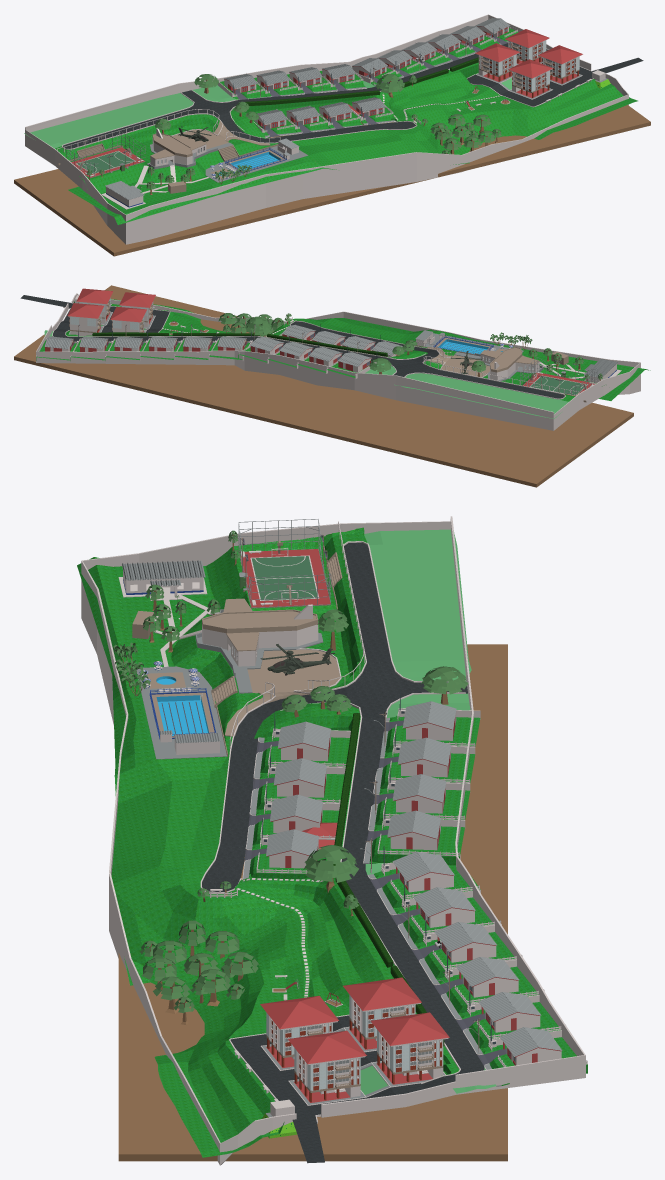
Rendered from vrsd_v1_textures_1_apache.glb.
The picture shows the model from 3 angles, top to bottom: view 1: azimuth 30°, elevation 25°; view 2: azimuth 150°, elevation 25°; view 3: azimuth 270°, elevation 25°; orthographic projection. The views are drawn at different scales.
Visible parts, largest first — view 1: muro, grama, Length-310m, clube-upper, rua.011, clube-lower-plane, rua, preio-telhado (×4), rua.002, cerca-viva, quadra, Circle.002 (+7 smaller); view 2: Length-310m, muro, grama, rua, rua.011, preio-telhado (×4), clube-lower-plane, cerca-viva, quadra, rua.002, estacionamento, clube-upper (+9 smaller); view 3: grama, Length-310m, muro, roof.001 (×14), rua, house_grass (×12), rua.011, clube-upper, clube-lower-plane, preio-telhado (×4), rua.003, quadra (+10 smaller).
Part boxes in pixels (x1=…): muro: x1=25, y1=14, x2=628, y2=244; grama: x1=230, y1=62, x2=637, y2=169; Length-310m: x1=14, y1=105, x2=650, y2=256; clube-upper: x1=55, y1=114, x2=270, y2=193; rua.011: x1=24, y1=81, x2=375, y2=148; clube-lower-plane: x1=68, y1=137, x2=323, y2=224; rua: x1=63, y1=86, x2=415, y2=148; preio-telhado (×4): x1=475, y1=29, x2=582, y2=78; rua.002: x1=467, y1=49, x2=643, y2=106; cerca-viva: x1=245, y1=57, x2=478, y2=105; quadra: x1=71, y1=147, x2=144, y2=177; Circle.002: x1=205, y1=146, x2=308, y2=182; Length-310m: x1=14, y1=285, x2=633, y2=487; muro: x1=36, y1=293, x2=640, y2=430; grama: x1=65, y1=299, x2=430, y2=361; rua: x1=256, y1=321, x2=564, y2=398; rua.011: x1=365, y1=363, x2=568, y2=418; preio-telhado (×4): x1=67, y1=288, x2=155, y2=322; clube-lower-plane: x1=428, y1=329, x2=650, y2=400; cerca-viva: x1=92, y1=332, x2=387, y2=356; quadra: x1=523, y1=373, x2=595, y2=396; rua.002: x1=20, y1=295, x2=169, y2=332; estacionamento: x1=426, y1=354, x2=489, y2=377; clube-upper: x1=424, y1=348, x2=604, y2=401; grama: x1=111, y1=702, x2=458, y2=1157; Length-310m: x1=118, y1=644, x2=507, y2=1161; muro: x1=81, y1=516, x2=585, y2=1165; roof.001 (×14): x1=266, y1=701, x2=562, y2=1056; rua: x1=202, y1=542, x2=467, y2=891; house_grass (×12): x1=249, y1=715, x2=560, y2=1049; rua.011: x1=364, y1=529, x2=471, y2=874; clube-upper: x1=171, y1=527, x2=366, y2=736; clube-lower-plane: x1=77, y1=557, x2=232, y2=775; preio-telhado (×4): x1=260, y1=977, x2=449, y2=1064; rua.003: x1=346, y1=875, x2=484, y2=1082; quadra: x1=240, y1=549, x2=330, y2=607.
Bounding box in the file's own units: 340 × 44.59 × 131.
Materials: 25 (8 with a texture image).
